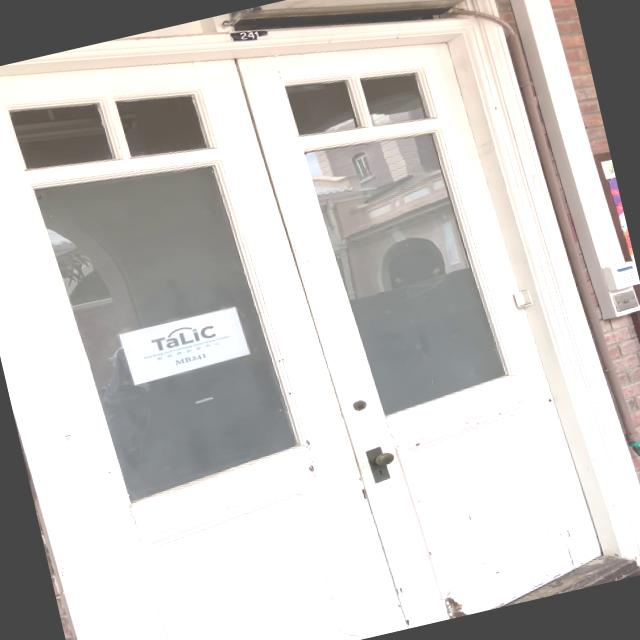room241: (227, 22, 270, 48)
